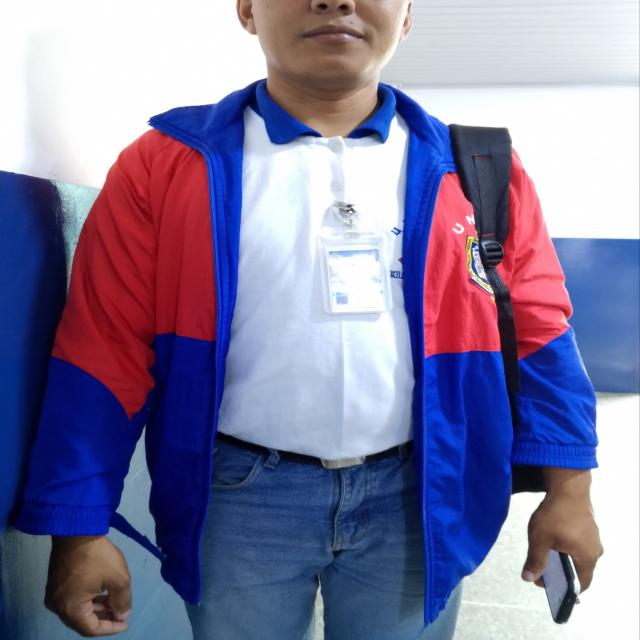chaqueta_unefa: (6, 77, 598, 629)
